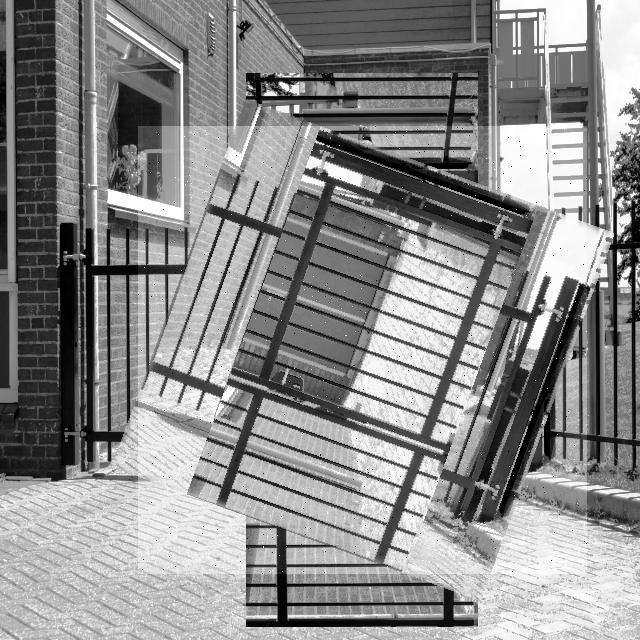fences: (138, 126, 587, 574)
